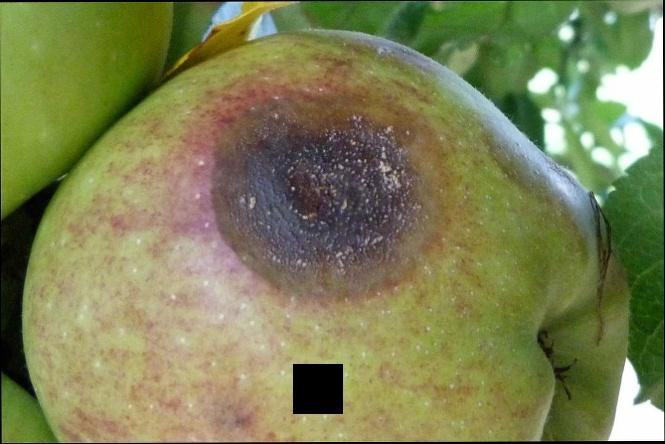rotten apple: (14, 27, 652, 443)
